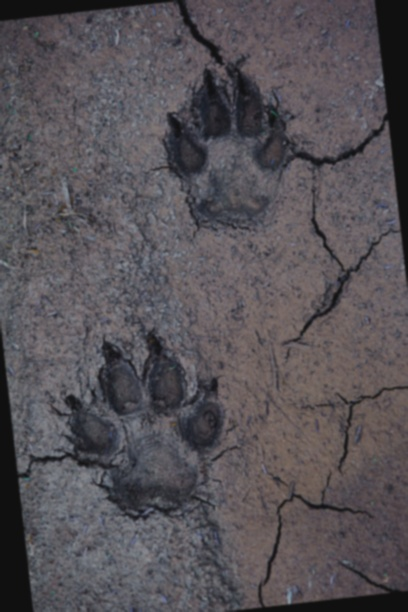loup: (25, 299, 260, 541), (127, 36, 339, 259)
